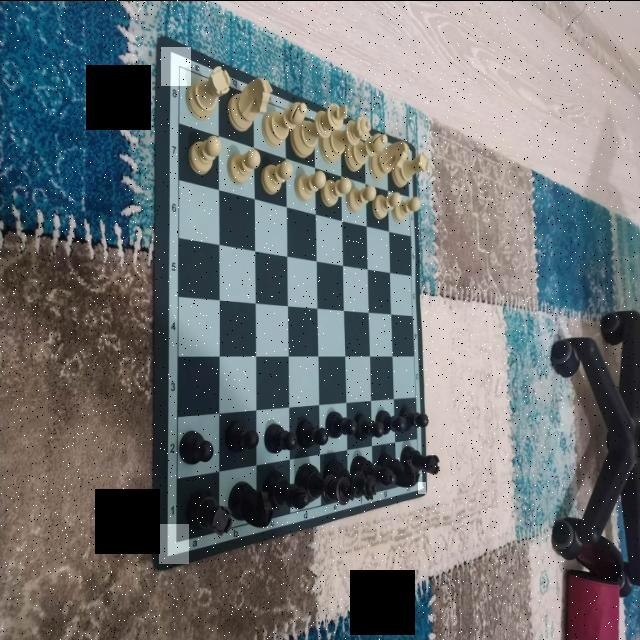chess-table-corners: (159, 523, 189, 563), (161, 46, 191, 85), (418, 481, 426, 493)
